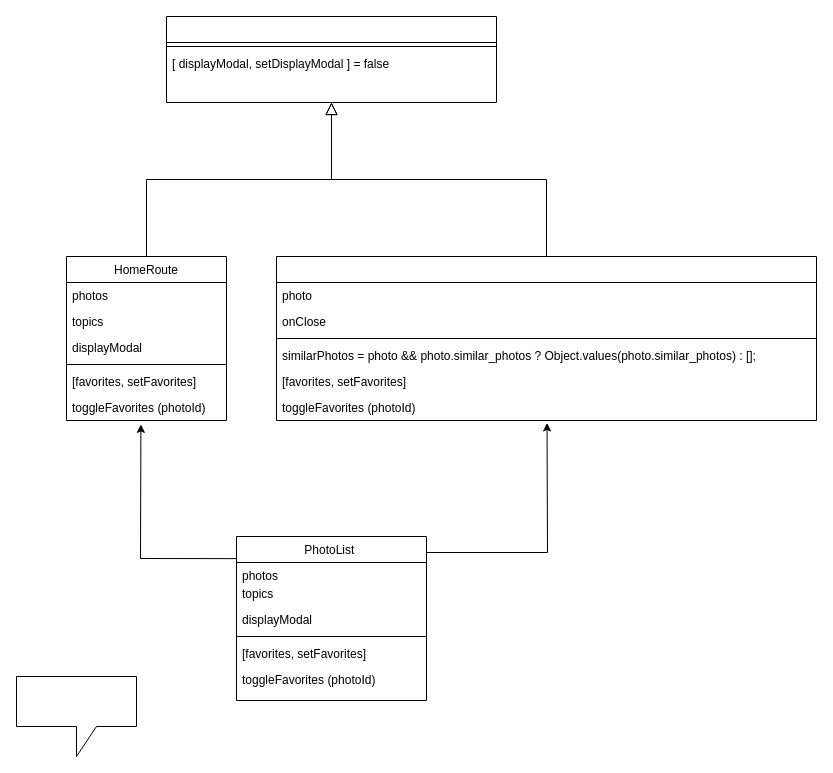
The diagram is 833 pixels wide and 773 high, and some of its shapes have lost their labels. The shapes that lost their labels are listed below. From the top down, each one's box as (x1, y1, x2, y2) in pixels, then its label:
(166, 16, 496, 102): App
(276, 256, 816, 420): PhotoDetailsModal
